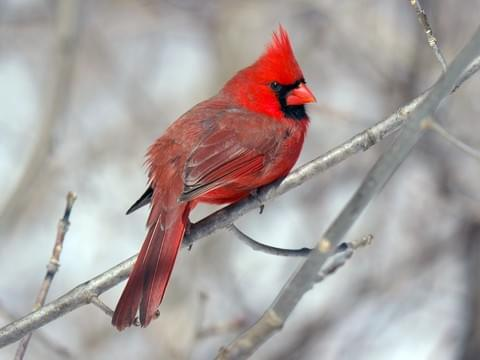bird: (127, 54, 307, 289)
